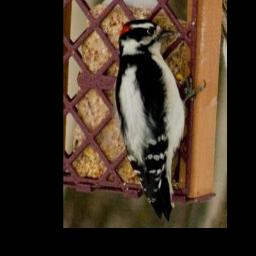Woodpecker: (116, 19, 205, 220)
